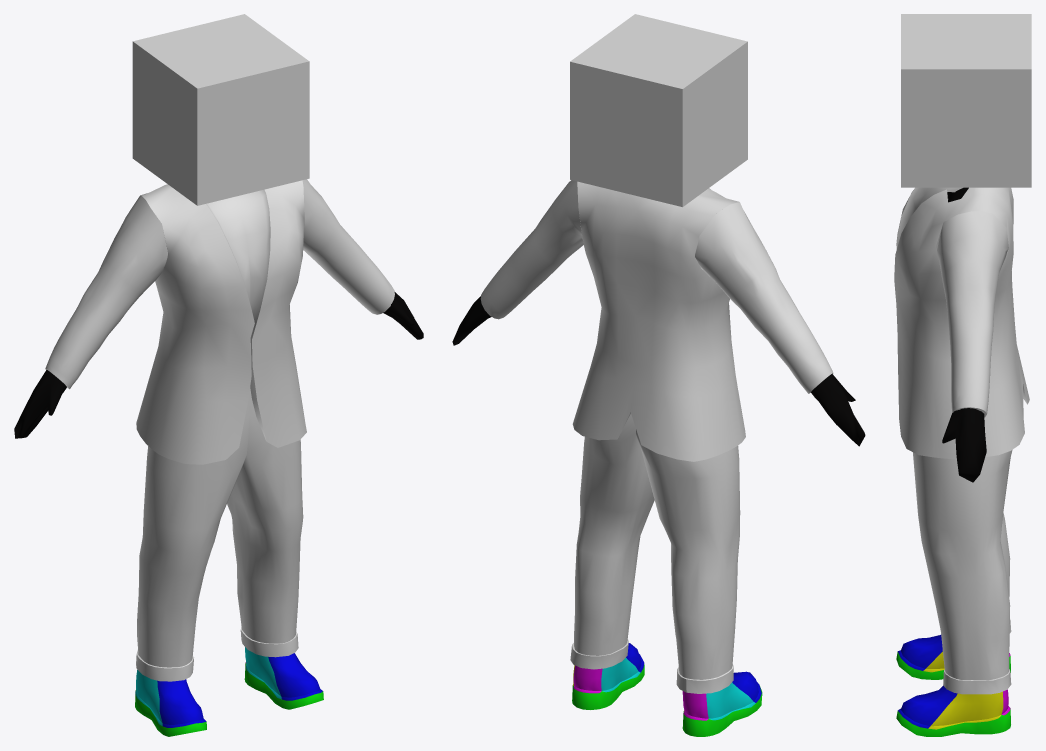
The model's file is person.glb.
3 renders of one model, left to right at view 1: azimuth 30°, elevation 25°; view 2: azimuth 150°, elevation 25°; view 3: azimuth 270°, elevation 25°, orthographic.
Visible parts, largest first — view 1: FullBody_Standing; view 2: FullBody_Standing; view 3: FullBody_Standing.
Part boxes in pixels (bbox=[...]): FullBody_Standing: bbox=[14, 14, 423, 736]; FullBody_Standing: bbox=[452, 14, 865, 736]; FullBody_Standing: bbox=[894, 14, 1031, 736].
Bounding box in the file's own units: 1.1 × 1.7 × 0.3223.
